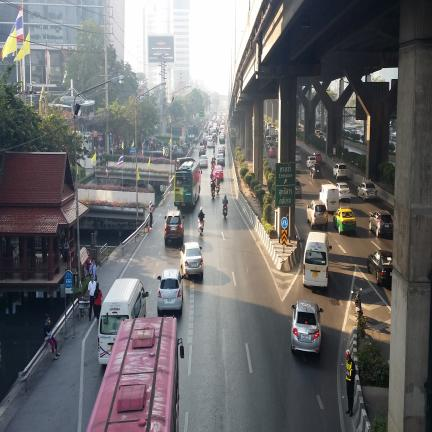bus: (87, 317, 179, 432), (174, 161, 201, 209), (180, 344, 184, 358)
car: (291, 301, 323, 353), (157, 269, 184, 316), (367, 250, 393, 287), (180, 242, 204, 278), (164, 210, 184, 245), (369, 210, 393, 237), (307, 200, 328, 229), (358, 181, 377, 200), (335, 183, 351, 201), (333, 164, 348, 181), (310, 162, 322, 178), (295, 179, 302, 198), (306, 156, 316, 169), (264, 135, 273, 148), (200, 154, 208, 168), (217, 153, 225, 166), (268, 146, 276, 157), (212, 129, 218, 143), (295, 151, 302, 162), (199, 146, 206, 156), (218, 145, 225, 155), (207, 136, 213, 147), (219, 133, 225, 143), (296, 162, 301, 173)
human: (44, 314, 60, 360), (346, 350, 356, 417), (93, 282, 103, 324), (88, 274, 96, 321), (89, 258, 97, 281), (62, 236, 69, 262), (149, 201, 153, 228), (198, 207, 205, 222), (222, 195, 228, 212), (210, 179, 216, 193), (216, 175, 220, 187), (210, 170, 214, 181)
motorbike: (353, 291, 363, 319), (198, 220, 204, 235), (223, 205, 228, 218), (216, 185, 220, 195), (211, 189, 215, 198), (213, 147, 215, 154)
taxi: (333, 207, 356, 235), (214, 164, 223, 181), (313, 152, 322, 164)
van: (98, 279, 148, 364), (303, 232, 331, 287), (319, 184, 339, 212), (265, 135, 273, 148)
